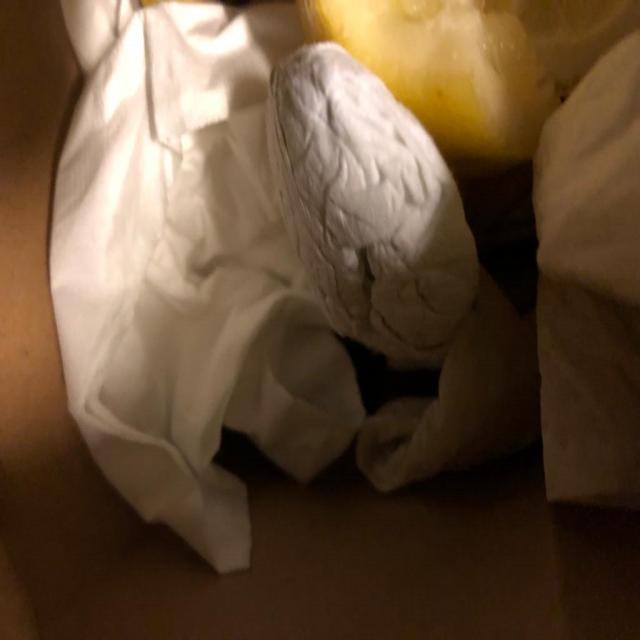kitchen paper: (49, 0, 370, 571), (269, 44, 484, 370)
